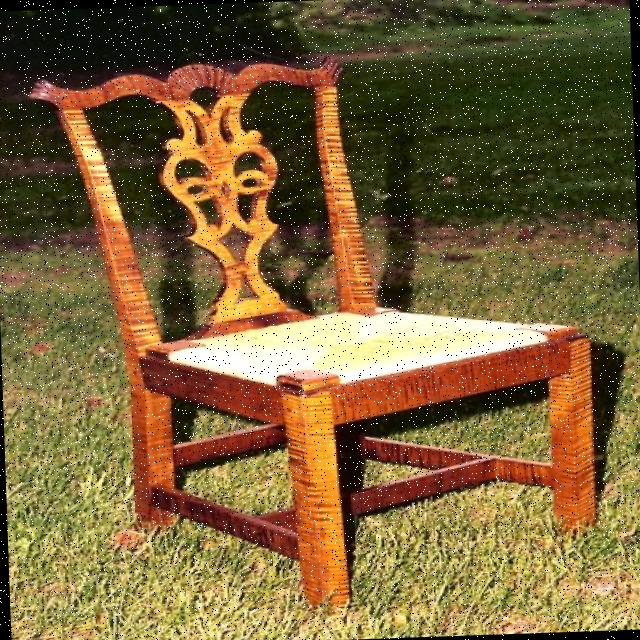Chair: (15, 27, 640, 618)
